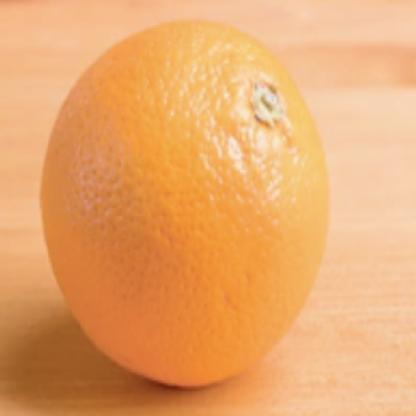fresh: (41, 24, 326, 389)
